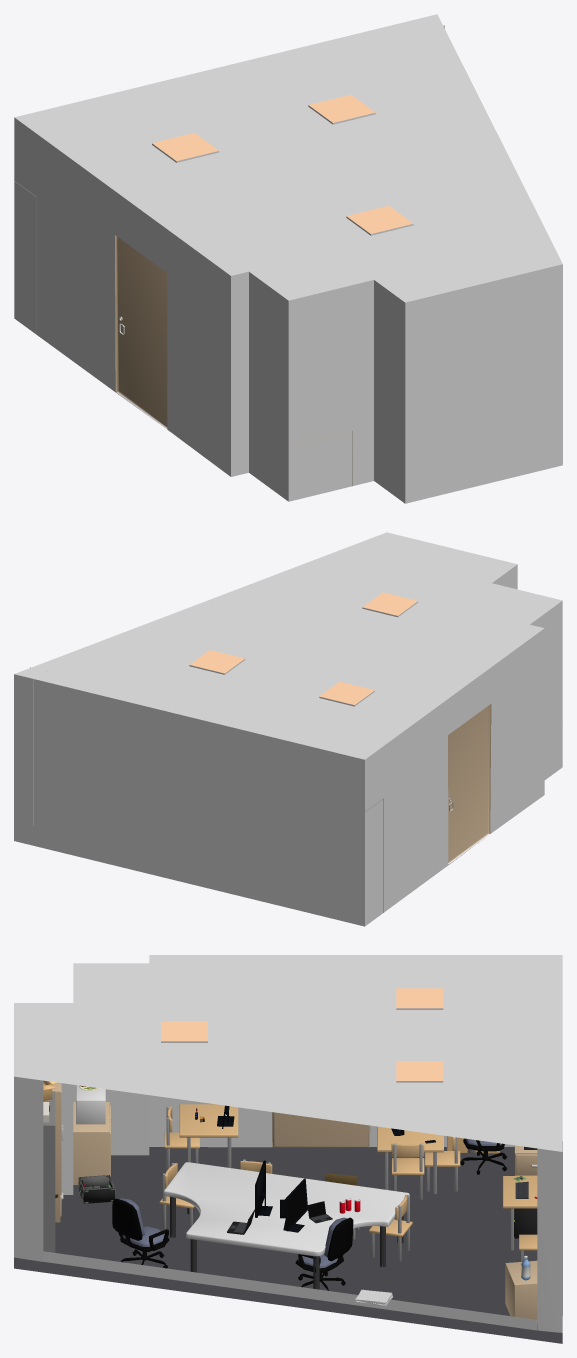
Rendered from skni.glb.
3 renders of one model, top to bottom at view 1: azimuth 30°, elevation 25°; view 2: azimuth 150°, elevation 25°; view 3: azimuth 270°, elevation 25°, orthographic. The views are drawn at different scales.
Parts seen in each view (by area): view 1: Base; view 2: Base; view 3: Base, DeskBig, Szafka, OfficeChair.002, TableRight, MetalShelf, OfficeChair.001, Drawer1, TableLeft, ShitChair5.001, TableLeft.001, Microwave (+12 smaller).
Boxes of the visible parts, bbox=[...] form: Base: bbox=[14, 14, 562, 503]; Base: bbox=[14, 532, 562, 926]; Base: bbox=[14, 955, 562, 1343]; DeskBig: bbox=[164, 1162, 409, 1289]; Szafka: bbox=[73, 1102, 110, 1184]; OfficeChair.002: bbox=[112, 1198, 169, 1268]; TableRight: bbox=[179, 1104, 238, 1167]; MetalShelf: bbox=[43, 1091, 55, 1252]; OfficeChair.001: bbox=[295, 1217, 353, 1290]; Drawer1: bbox=[505, 1260, 537, 1319]; TableLeft: bbox=[377, 1126, 443, 1194]; ShitChair5.001: bbox=[391, 1143, 424, 1199]; TableLeft.001: bbox=[502, 1176, 537, 1250]; Microwave: bbox=[76, 1085, 105, 1124].
Bounding box in the file's own units: 7.94 × 3.64 × 9.33.
